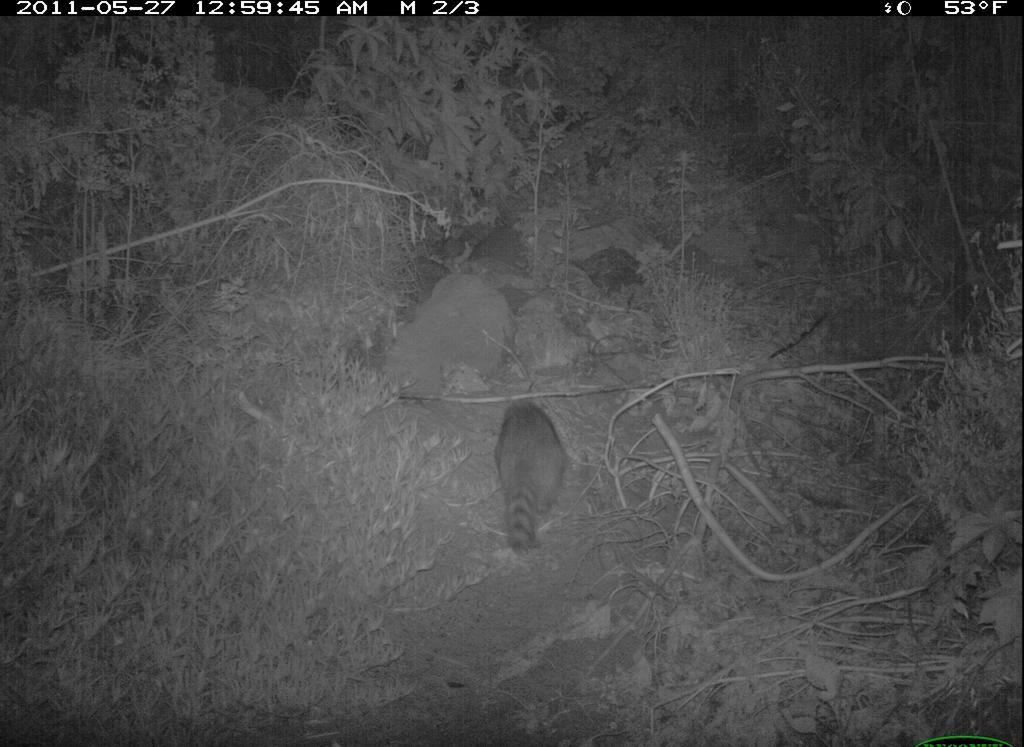raccoon: (482, 395, 585, 566)
